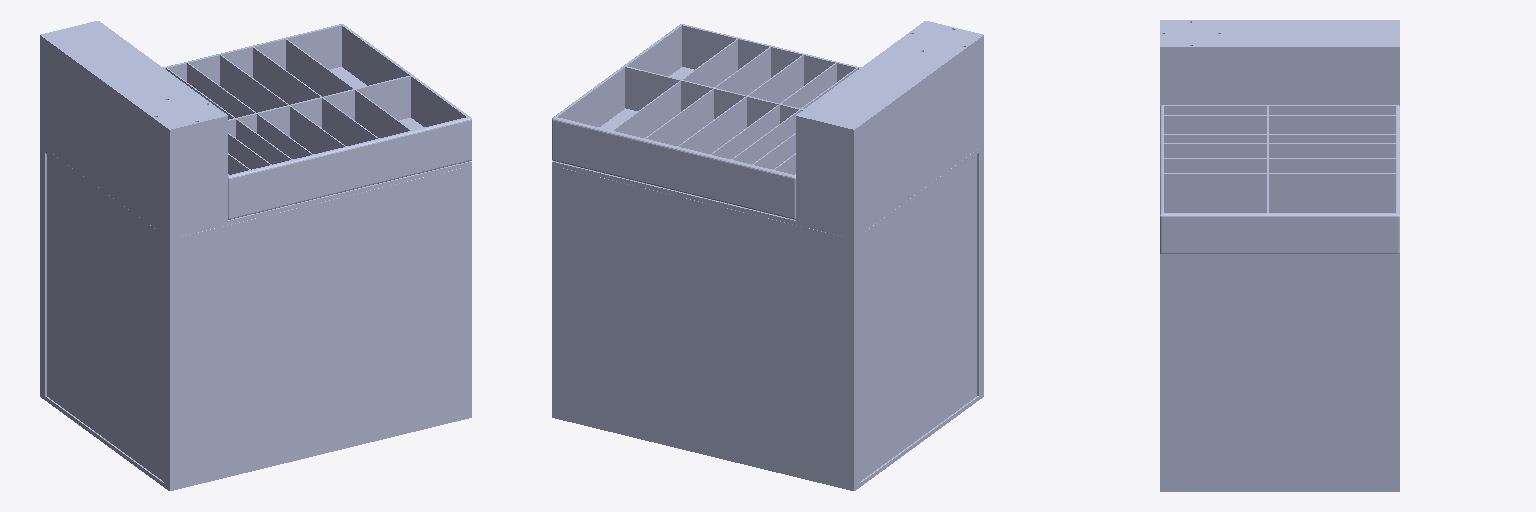
robot.urdf — booksink:
<?xml version="1.0" encoding="utf-8"?>
<!-- This URDF was automatically created by SolidWorks to URDF Exporter! Originally created by [author] ([email redacted]) 
     Commit Version: 1.6.0-4-g7f85cfe  Build Version: 1.6.7995.38578
     For more information, please see http://wiki.ros.org/sw_urdf_exporter -->
<robot
  name="booksink">
  <link
    name="booksink_link">
    <inertial>
      <origin
        xyz="0.526222946096893 0.678509860201614 0.28457334883271"
        rpy="0 0 0" />
      <mass
        value="41.6884762061747" />
      <inertia
        ixx="2.62451743594391"
        ixy="-0.589704408483634"
        ixz="-0.000559520034314575"
        iyy="3.12172134247769"
        iyz="-2.18230871282791E-06"
        izz="2.98496788067529" />
    </inertial>
    <visual>
      <origin
        xyz="0 0 0"
        rpy="0 0 0" />
      <geometry>
        <mesh
          filename="package://booksink/meshes/booksink_link.STL" />
      </geometry>
      <material
        name="">
        <color
          rgba="0.792156862745098 0.819607843137255 0.933333333333333 1" />
      </material>
    </visual>
    <collision>
      <origin
        xyz="0 0 0"
        rpy="0 0 0" />
      <geometry>
        <mesh
          filename="package://booksink/meshes/booksink_link.STL" />
      </geometry>
      <surface>
        <friction>
          <ode>
            <mu>0.5</mu>
            <mu2>0.5</mu2>
          </ode>
        </friction>
      </surface>
    </collision>
  </link>
</robot>

--- Render facts (derived) ---
3 views of the same robot in one strip: view 1: azimuth 30°, elevation 25°; view 2: azimuth 150°, elevation 25°; view 3: azimuth 270°, elevation 25° (orthographic).
Model booksink with 1 links and 0 joints (none), rooted at booksink_link, posed every joint at zero.
Visible links, largest first — view 1: booksink_link; view 2: booksink_link; view 3: booksink_link.
Boxes of the visible links, left/top/right/bottom form: booksink_link: left=40, top=21, right=471, bottom=490; booksink_link: left=552, top=21, right=983, bottom=490; booksink_link: left=1160, top=20, right=1399, bottom=491.
Bounding box of the posed robot: 0.769 × 0.57 × 0.875 m (x, y, z).
Meshes: 1 distinct files referenced, 1 mesh visuals loaded (1 binary STL).